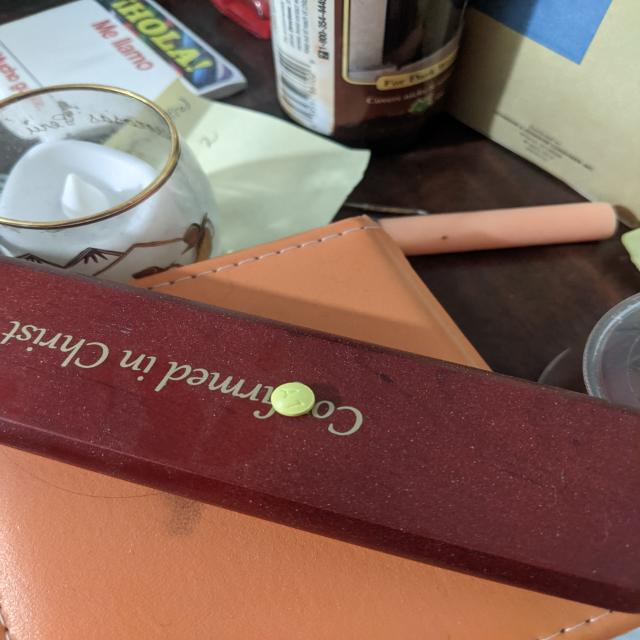non-organic waste: (270, 382, 317, 417)
